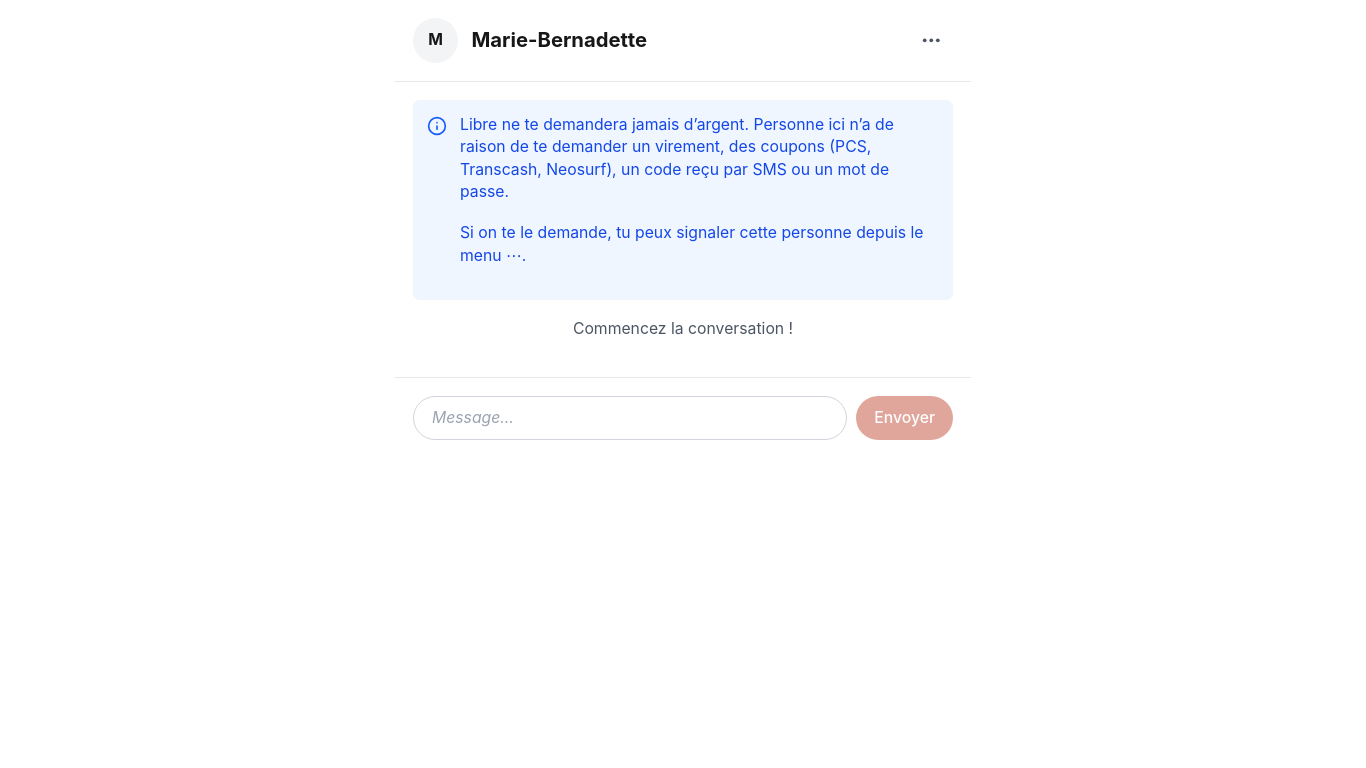
Test: en-tête du fil (#417) › #369 — « Signaler » est dans le menu, et ouvre directement le signalement
The image size is (1366, 768).
Click the button named "Plus d’actions" at (931, 40), box [909,18,953,62]
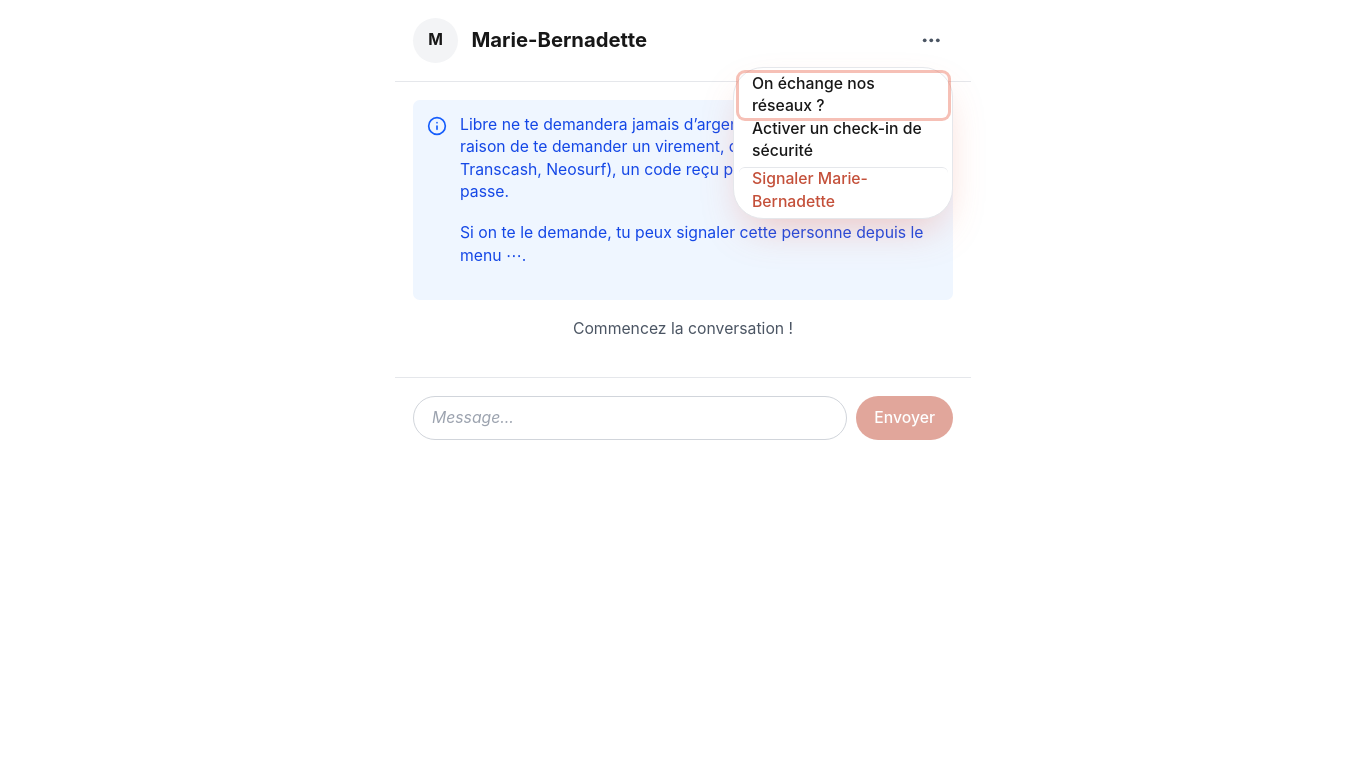
Click the menu item "Signaler Marie-Bernadette" at (843, 190), box [738,167,948,213]
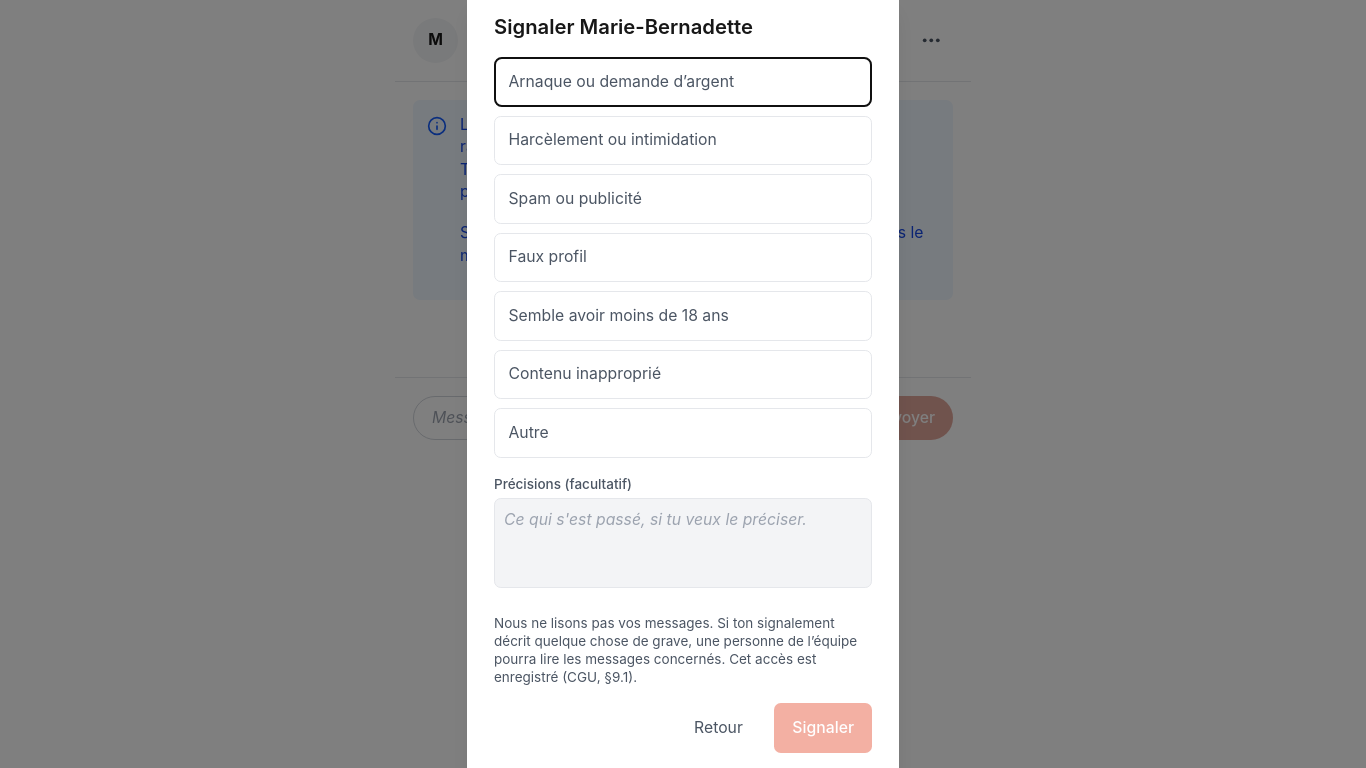
Check: the heading "Signaler Marie-Bernadette" is shown, box [494,14,753,39]
Check: the menu is gone
Check: the text "Nous ne lisons pas vos messages" is shown, box [494,615,857,685]
